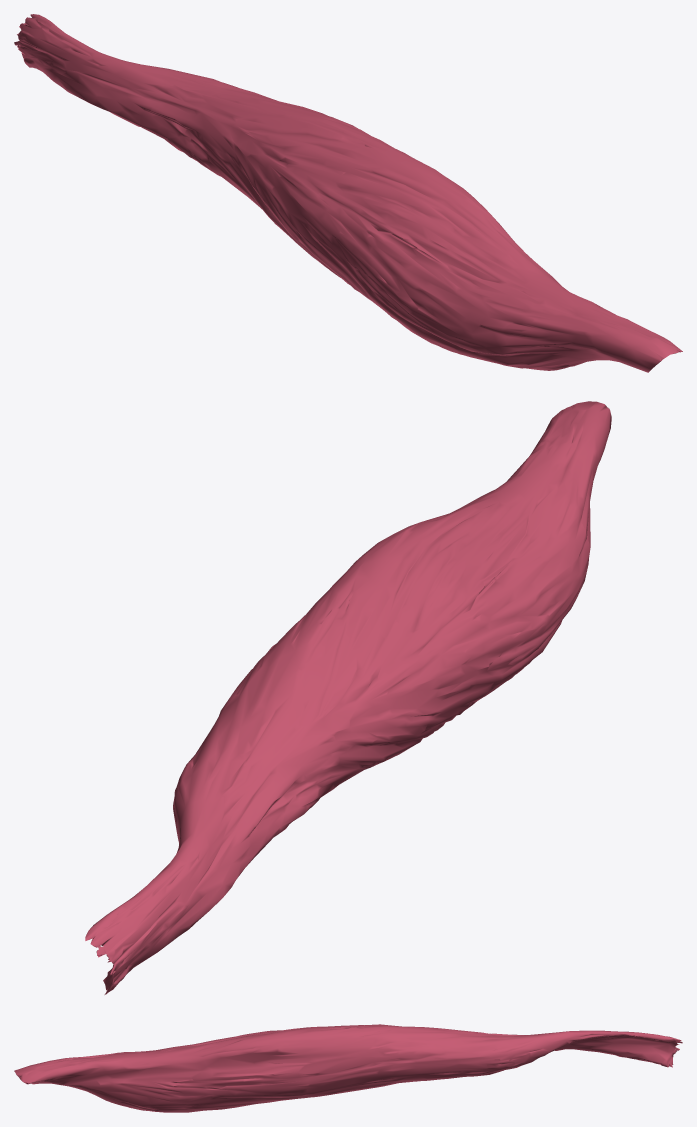
The picture shows the model from 3 angles, top to bottom: view 1: azimuth 30°, elevation 25°; view 2: azimuth 150°, elevation 25°; view 3: azimuth 270°, elevation 25°; orthographic projection. The views are drawn at different scales.
Parts seen in each view (by area): view 1: 右侧股二头肌长头; view 2: 右侧股二头肌长头; view 3: 右侧股二头肌长头.
Part boxes in pixels (box(x1,y1,x2,y2)): 右侧股二头肌长头: box(14, 14, 682, 372); 右侧股二头肌长头: box(85, 401, 611, 994); 右侧股二头肌长头: box(14, 1024, 682, 1112).
Size of the model in its own units: 0.1153 by 0.0823 by 0.6268.
